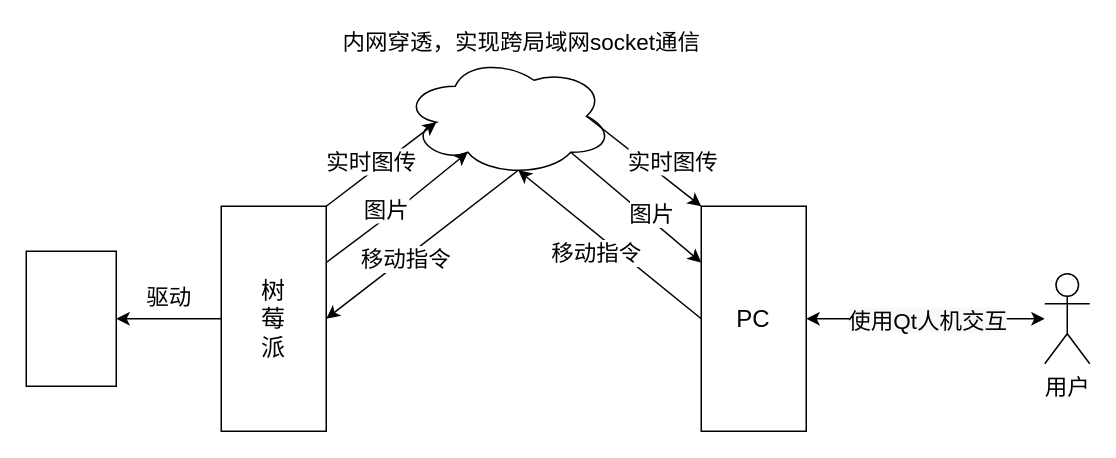
This 1116x458 diagram has some shape labels left out. Here are the shapes that lost their labels. From the top down, the box of each, then its label:
(401, 55, 613, 176): 云服务器主机
(25, 250, 116, 386): 电 机
